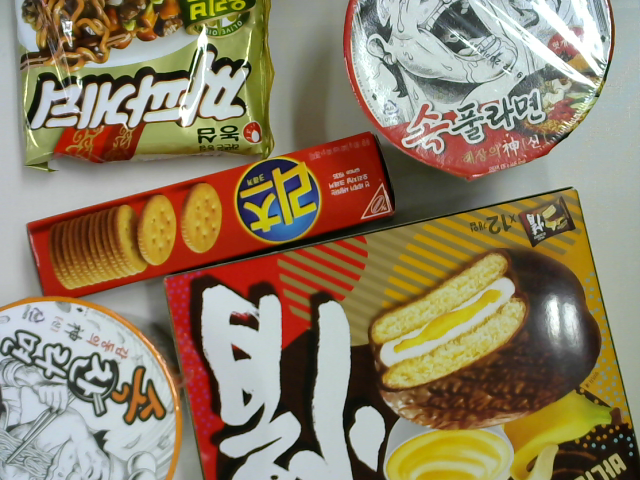Choco_Pie_Banana: (156, 180, 640, 478)
Hejangchan: (1, 291, 199, 479)
Hejangpul: (338, 1, 626, 188)
Olive_Chapaghetti: (2, 1, 283, 176)
Ritz_Cracker: (19, 124, 405, 306)
